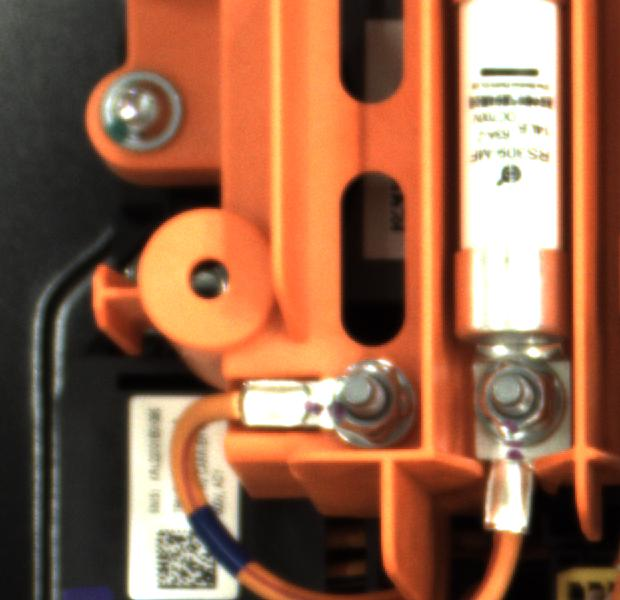screw_m: (81, 64, 196, 160)
screw_s: (468, 356, 572, 456), (311, 355, 411, 448)
